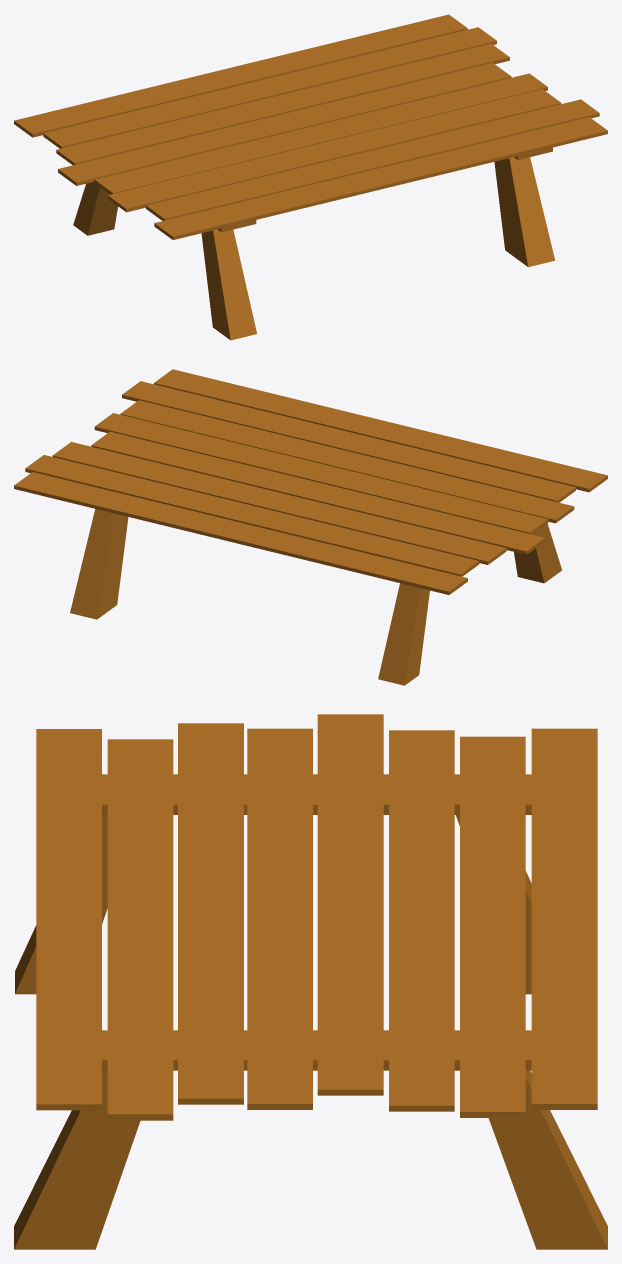
Rendered from table-fantasy-by-shantoan-i7vG3xDLx2.glb.
3 views of the same model, one above another, from view 1: azimuth 30°, elevation 25°; view 2: azimuth 150°, elevation 25°; view 3: azimuth 270°, elevation 25° (orthographic). The views are drawn at different scales.
Parts seen in each view (by area): view 1: Cube, Cube_25, Cube_5, Cube_1, Cube_6, Cube_2, Cube_4, Cube_3, Cube_7, Cube_8; view 2: Cube_25, Cube_6, Cube_4, Cube, Cube_5, Cube_1, Cube_3, Cube_2, Cube_7, Cube_8; view 3: Cube_4, Cube_1, Cube_25, Cube_6, Cube_5, Cube_3, Cube_2, Cube, Cube_8, Cube_7.
Part boxes in pixels (box(x1,y1,x2,y2)): Cube: box(154, 117, 607, 239); Cube_25: box(14, 14, 467, 137); Cube_5: box(56, 43, 509, 165); Cube_1: box(146, 99, 599, 220); Cube_6: box(43, 27, 496, 148); Cube_2: box(107, 89, 561, 212); Cube_4: box(58, 63, 511, 185); Cube_3: box(94, 73, 547, 194); Cube_7: box(73, 182, 256, 340); Cube_8: box(494, 147, 555, 267); Cube_25: box(14, 472, 467, 594); Cube_6: box(25, 455, 479, 576); Cube_4: box(91, 431, 545, 554); Cube: box(154, 369, 607, 492); Cube_5: box(52, 442, 506, 564); Cube_1: box(122, 381, 575, 502); Cube_3: box(94, 413, 548, 534); Cube_2: box(120, 400, 574, 523); Cube_7: box(378, 523, 561, 685); Cube_8: box(70, 509, 128, 619); Cube_4: box(317, 714, 383, 1095); Cube_1: box(107, 739, 173, 1120); Cube_25: box(531, 728, 597, 1109); Cube_6: box(460, 736, 525, 1117); Cube_5: box(389, 730, 454, 1111); Cube_3: box(247, 728, 312, 1109); Cube_2: box(178, 723, 243, 1104); Cube: box(36, 729, 101, 1110); Cube_8: box(14, 1030, 607, 1249); Cube_7: box(15, 774, 531, 994).
Size of the model in its own units: 4.47 by 1.03 by 2.81.
